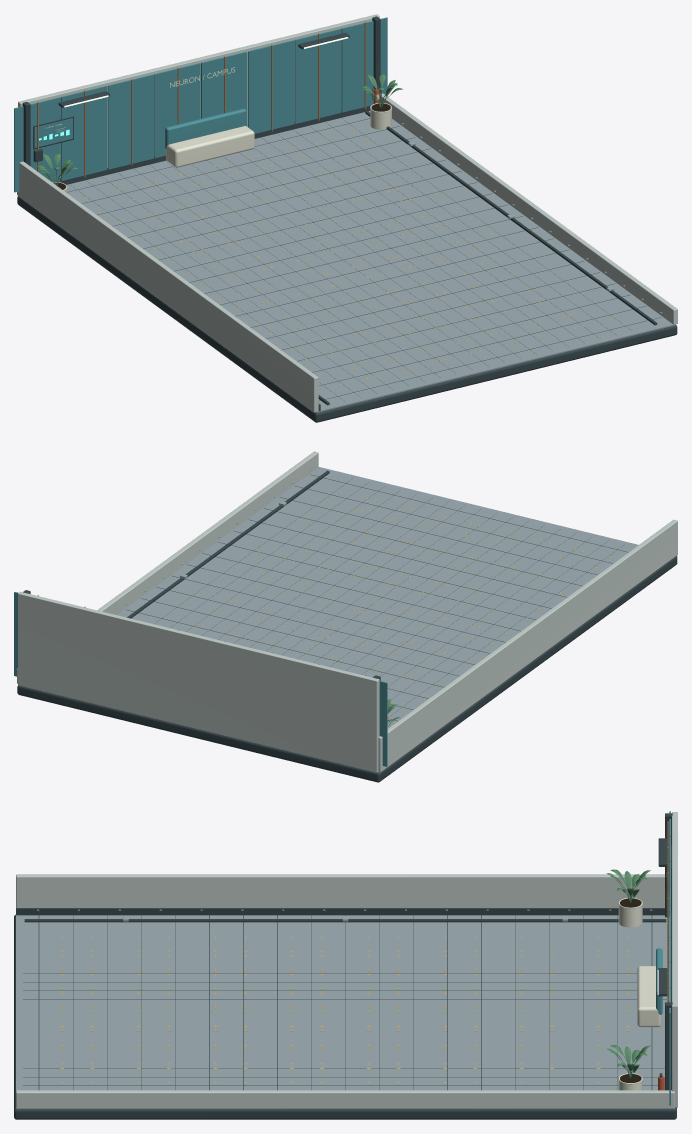
The model's file is campus.glb.
3 views of the same model, one above another, from view 1: azimuth 30°, elevation 25°; view 2: azimuth 150°, elevation 25°; view 3: azimuth 270°, elevation 25° (orthographic). The views are drawn at different scales.
Parts seen in each view (by area): view 1: SM_campus_01_mineral_floor, SM_campus_08_glass, SM_campus_02_painted_plaster, SM_campus_03_charcoal_steel, SM_campus_06_ivory, SM_campus_11_safety_paint, SM_campus_05_warm_oak, SM_campus_Foliage; view 2: SM_campus_01_mineral_floor, SM_campus_02_painted_plaster, SM_campus_03_charcoal_steel, SM_campus_08_glass, SM_campus_11_safety_paint; view 3: SM_campus_01_mineral_floor, SM_campus_02_painted_plaster, SM_campus_03_charcoal_steel, SM_campus_06_ivory, SM_campus_11_safety_paint, SM_campus_Foliage, SM_campus_08_glass.
Boxes of the visible parts, box(x1,y1,x2,y2) form: SM_campus_01_mineral_floor: box(67, 111, 675, 412); SM_campus_08_glass: box(14, 17, 387, 192); SM_campus_02_painted_plaster: box(17, 14, 677, 412); SM_campus_03_charcoal_steel: box(17, 16, 677, 422); SM_campus_06_ivory: box(45, 67, 391, 192); SM_campus_11_safety_paint: box(84, 132, 610, 385); SM_campus_05_warm_oak: box(37, 22, 366, 177); SM_campus_Foliage: box(36, 74, 402, 190); SM_campus_01_mineral_floor: box(117, 467, 638, 772); SM_campus_02_painted_plaster: box(17, 451, 677, 772); SM_campus_03_charcoal_steel: box(17, 470, 677, 782); SM_campus_08_glass: box(14, 592, 387, 766); SM_campus_11_safety_paint: box(167, 491, 610, 719); SM_campus_01_mineral_floor: box(16, 915, 669, 1090); SM_campus_02_painted_plaster: box(16, 812, 677, 1108); SM_campus_03_charcoal_steel: box(14, 813, 676, 1119); SM_campus_06_ivory: box(618, 901, 661, 1090); SM_campus_11_safety_paint: box(60, 936, 630, 1083); SM_campus_Foliage: box(606, 869, 650, 1084); SM_campus_08_glass: box(656, 811, 670, 1105).
Bounding box in the file's own units: 14.01 × 3.68 × 19.5.
